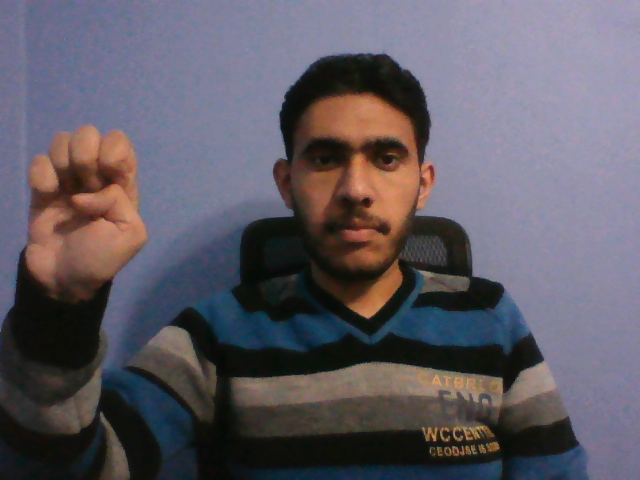E: (18, 123, 152, 299)
